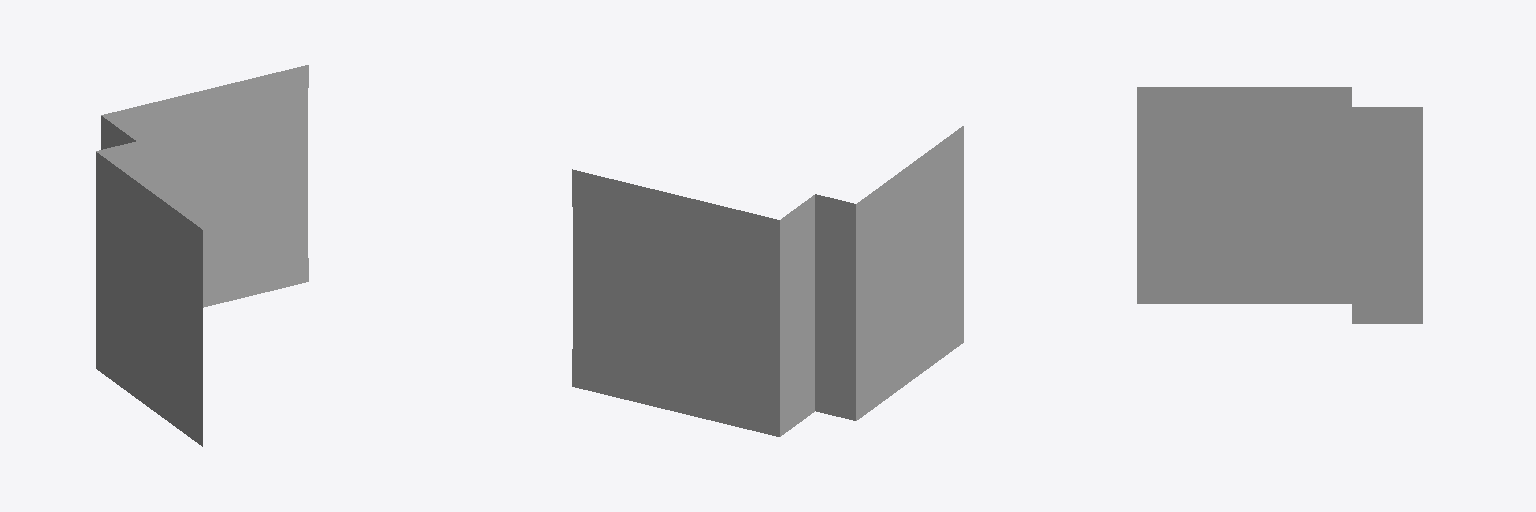
Rendered from wall.obj.
3 views of the same model, side by side, from view 1: azimuth 30°, elevation 25°; view 2: azimuth 150°, elevation 25°; view 3: azimuth 270°, elevation 25° (orthographic).
Parts seen in each view (by area): view 1: Cube; view 2: Cube; view 3: Cube.
Boxes of the visible parts, box(x1,y1,x2,y2) form: Cube: box(96, 65, 308, 446); Cube: box(572, 126, 963, 436); Cube: box(1137, 87, 1422, 323).
Size of the model in its own units: 1.14 by 0.9516 by 1.14.